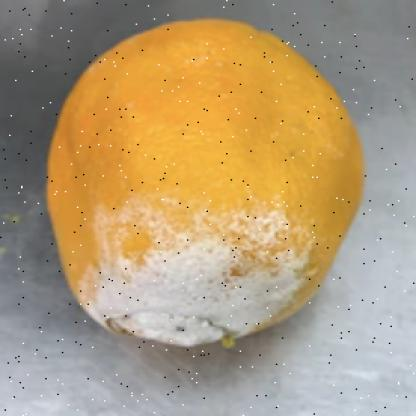rotten: (50, 21, 367, 352)
